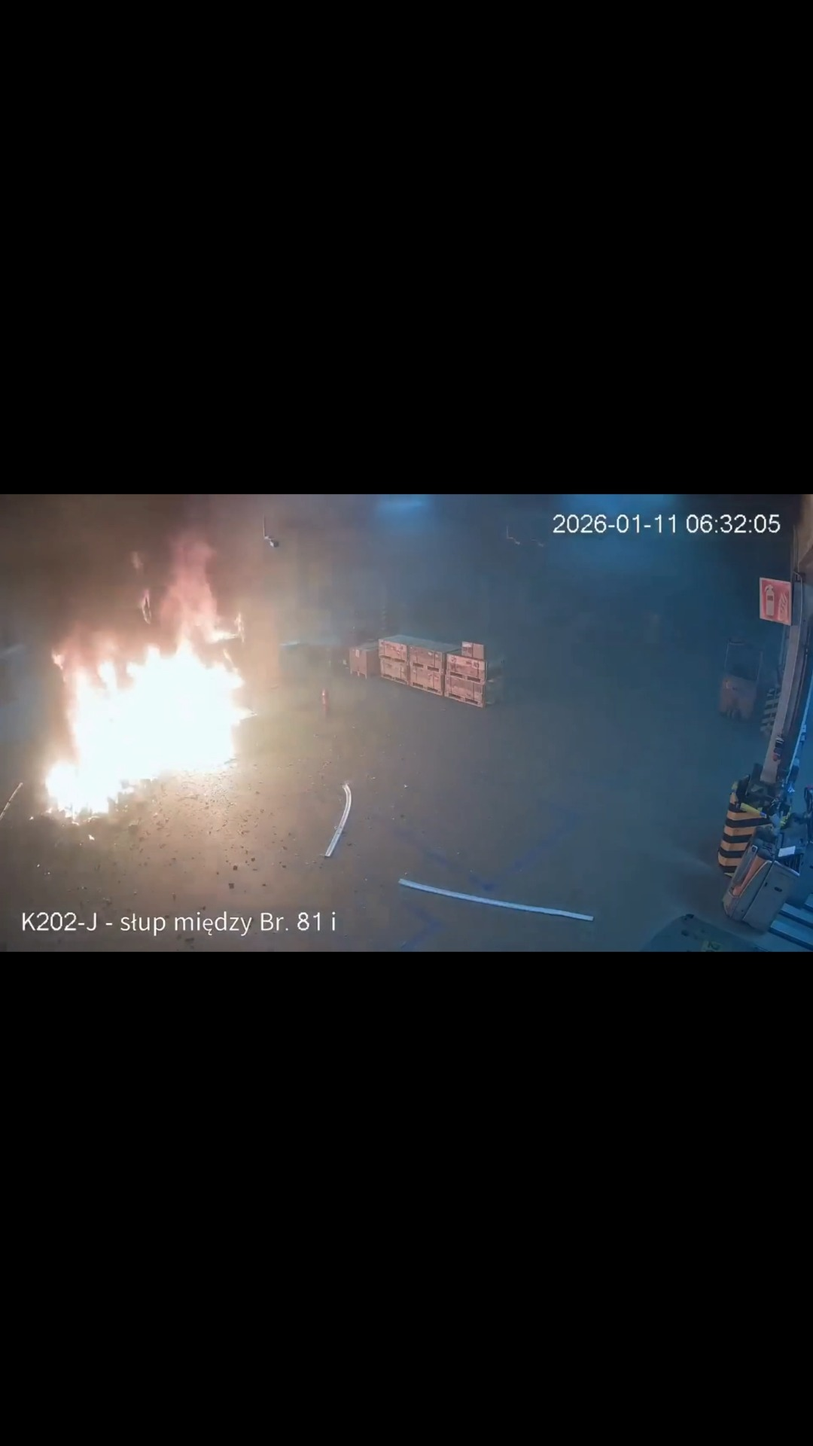fire: (40, 538, 253, 828)
smoke: (4, 496, 550, 653)
